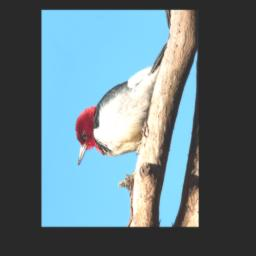Woodpecker: (69, 22, 167, 182)
